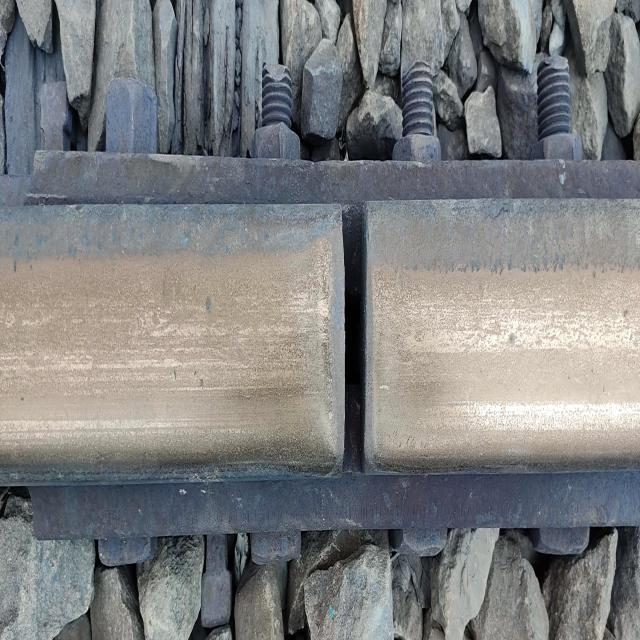Good Joint: (23, 99, 616, 582)
